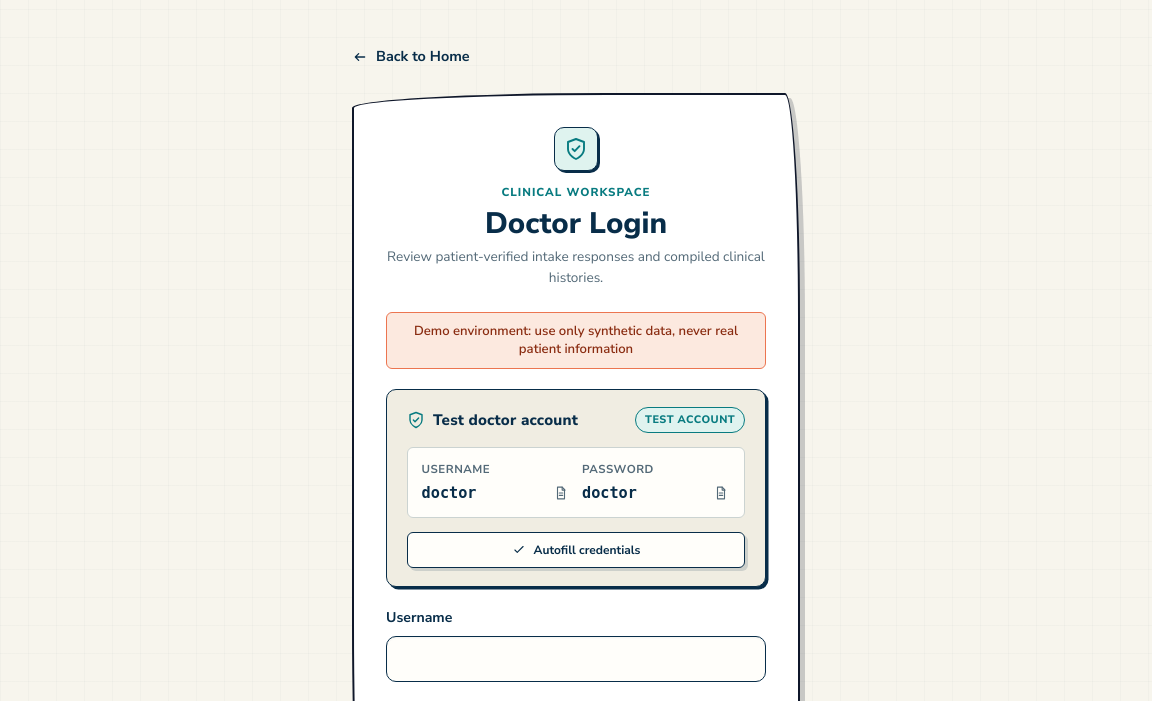
Test: DoctorDemoCredentials component and constants › renders doctor login page with demo card, autofill fills inputs, Sign in stays enabled, and form is not auto-submitted
Expected: the element with test id "doctor-demo-credentials-card" is shown, top-left (386, 388), bottom-right (766, 587)
Expected: the field labelled "Username" is empty, top-left (386, 636), bottom-right (766, 682)
Click autofill button
Click the button with test id "doctor-autofill-btn" at point(576, 550), box top-left (407, 532), bottom-right (745, 568)
(page scrolled)
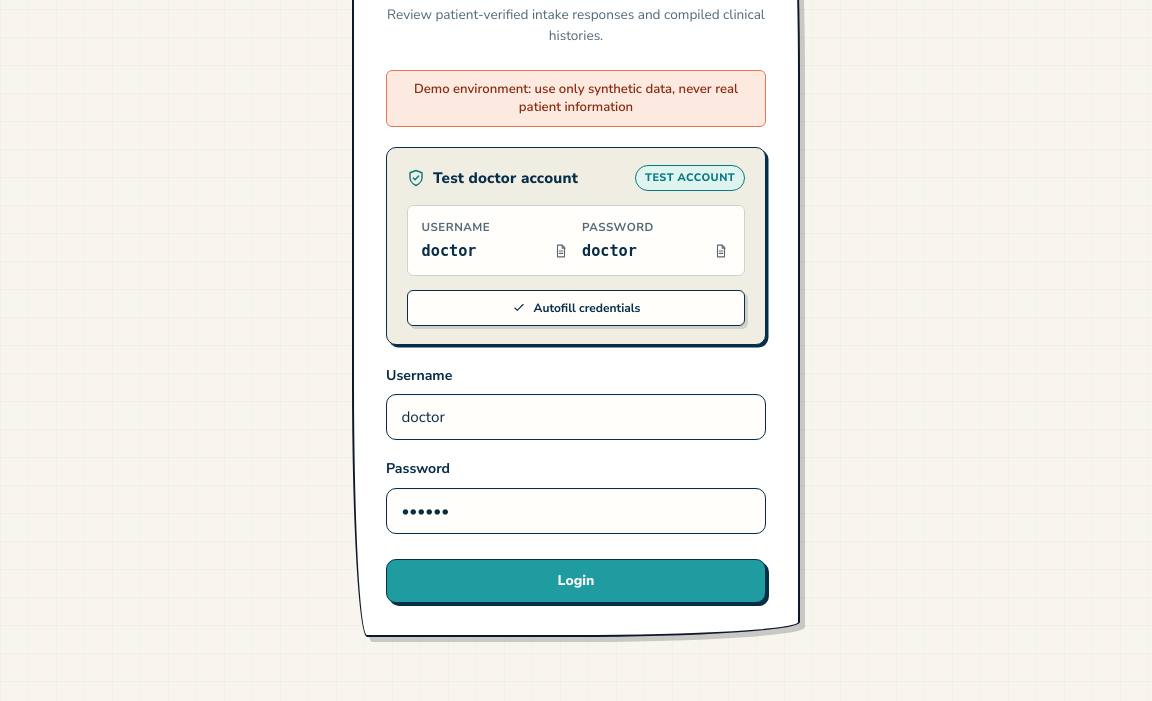
Expected: the button "Login" is enabled, top-left (386, 559), bottom-right (766, 603)
Expected: the field labelled "Username" holds "doctor", top-left (386, 394), bottom-right (766, 440)
Expected: the password field with id "doctor-password" holds "doctor", top-left (386, 488), bottom-right (766, 534)
